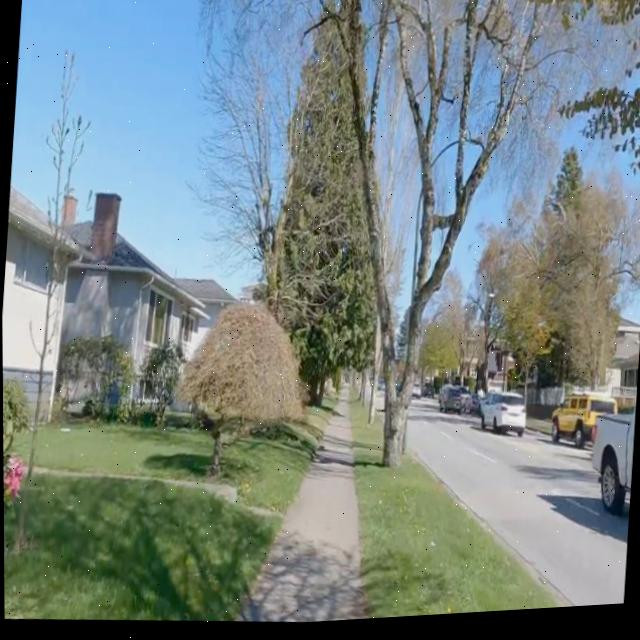Automobile: (591, 414, 635, 522), (551, 399, 616, 454), (480, 398, 524, 442), (438, 390, 467, 417), (458, 398, 479, 419), (410, 388, 419, 404)
Road: (408, 409, 629, 614)
Sidewalk: (237, 387, 362, 626)
